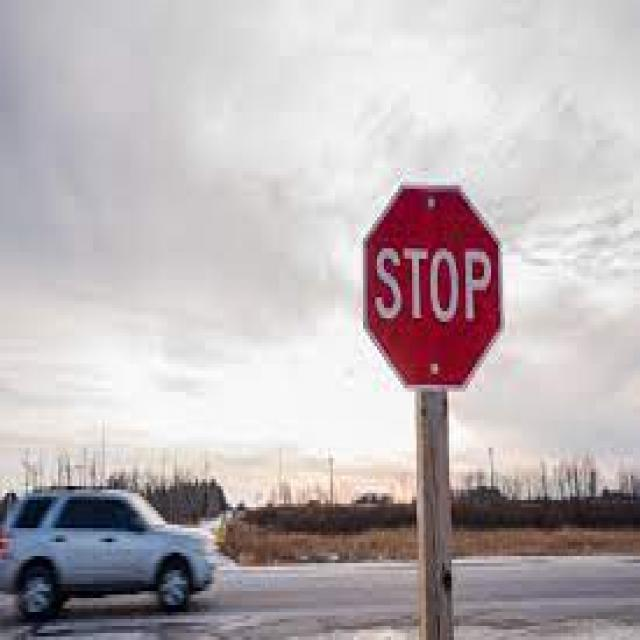stop-sign: (352, 176, 524, 399)
